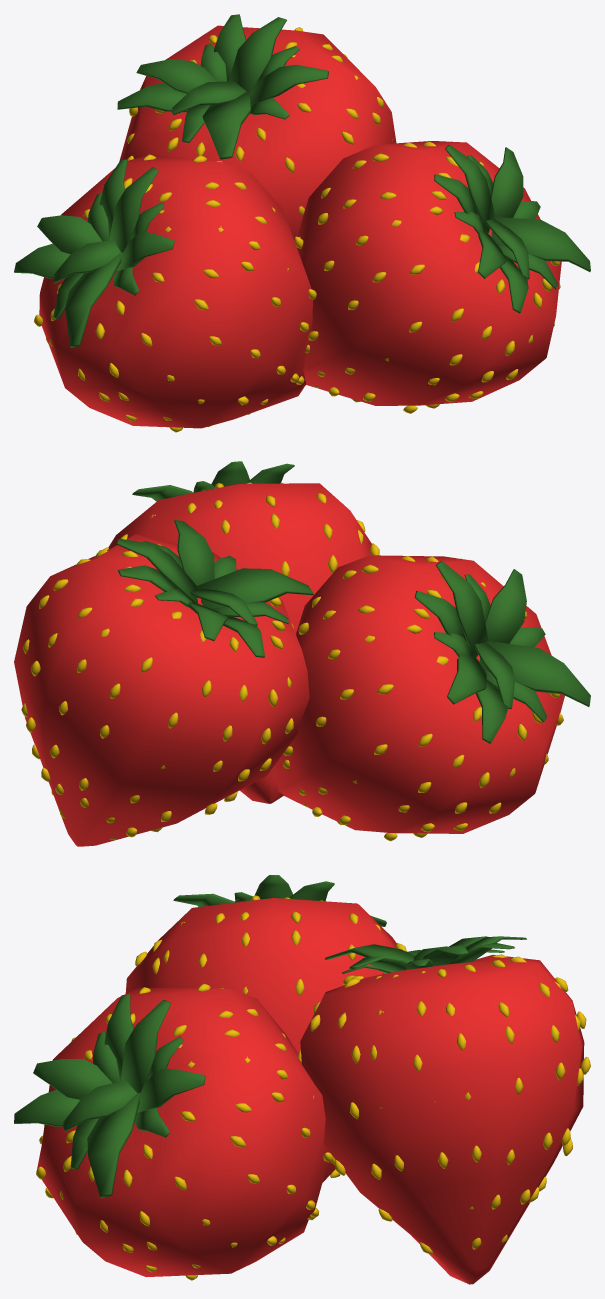
Rendered from strawberry.glb.
3 views of the same model, one above another, from view 1: azimuth 30°, elevation 25°; view 2: azimuth 150°, elevation 25°; view 3: azimuth 270°, elevation 25° (orthographic). The views are drawn at different scales.
Visible parts, largest first — view 1: Cube.018, Cube.009, Cube.008; view 2: Cube.008, Cube.018, Cube.009; view 3: Cube.008, Cube.009, Cube.018.
Part boxes in pixels (bbox=[...]): Cube.018: bbox=[14, 154, 316, 432]; Cube.009: bbox=[294, 141, 590, 413]; Cube.008: bbox=[117, 14, 396, 240]; Cube.008: bbox=[14, 520, 313, 846]; Cube.018: bbox=[275, 555, 590, 841]; Cube.009: bbox=[103, 461, 379, 803]; Cube.008: bbox=[298, 936, 590, 1284]; Cube.009: bbox=[14, 984, 333, 1280]; Cube.018: bbox=[125, 875, 406, 1182].
Bounding box in the file's own units: 4.39 × 2.63 × 4.36.
